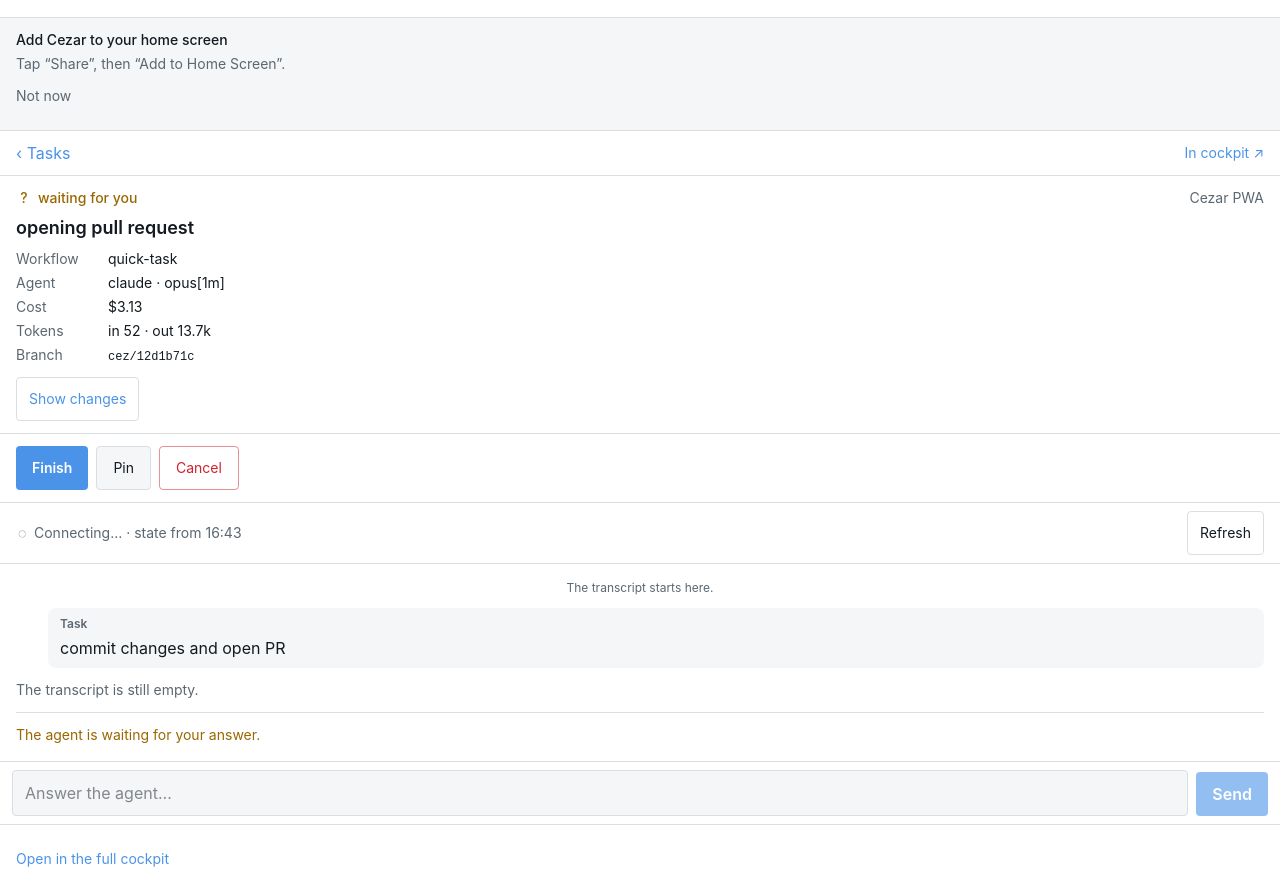
Test: the review gate (FR-026, FR-027) › a waiting task is finished with the other label
(page scrolled)
Click the button "Finish".
click(52, 468)  # box [16,446,88,490]
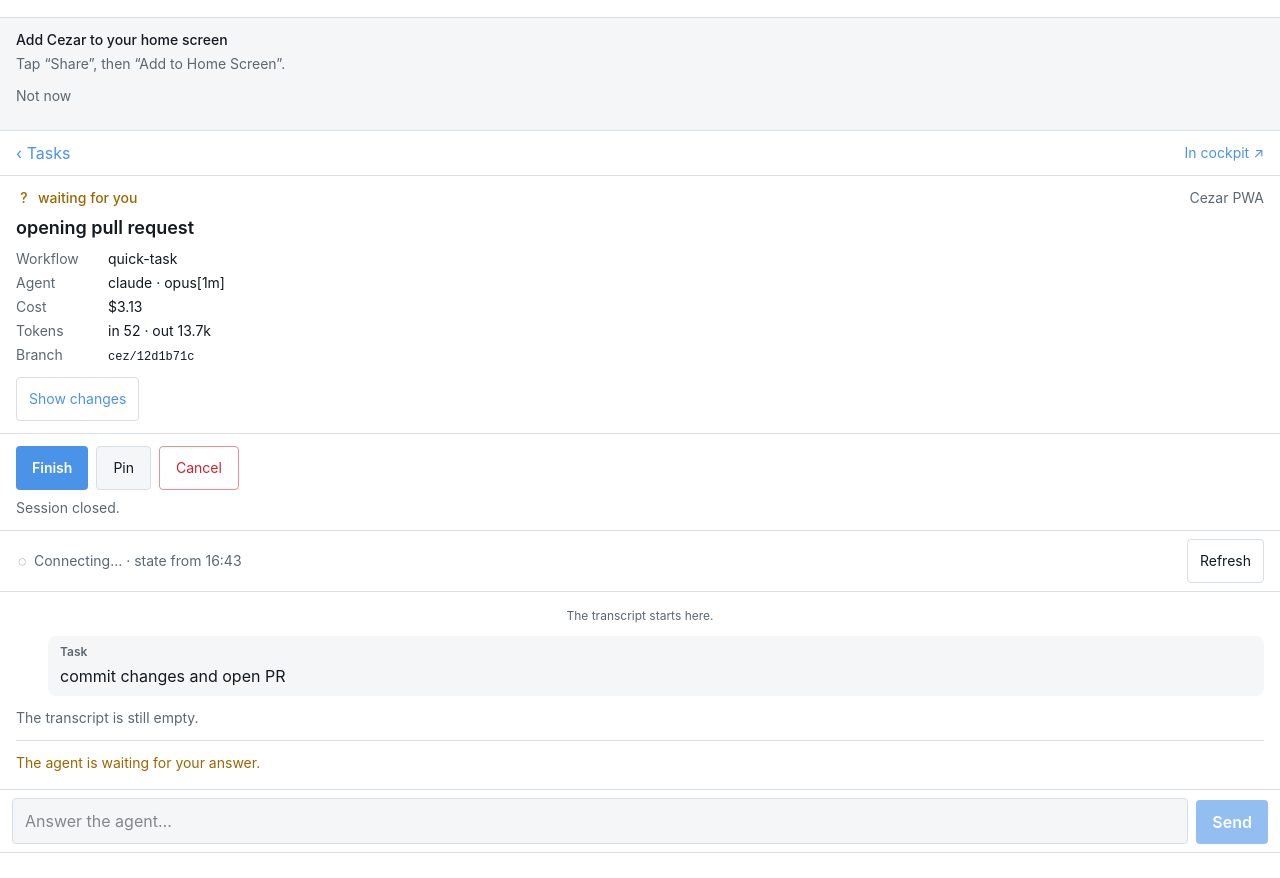
Now the text "Session closed." is shown, box [16,499,120,516]
